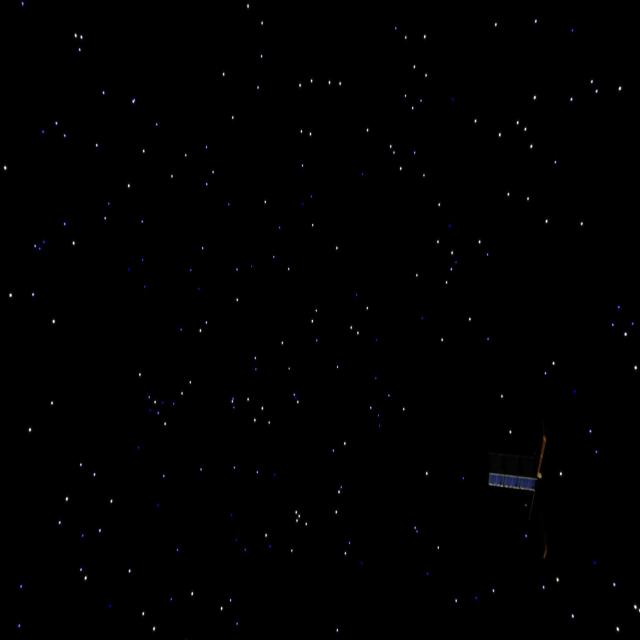medium_debris: (471, 432, 593, 580)
